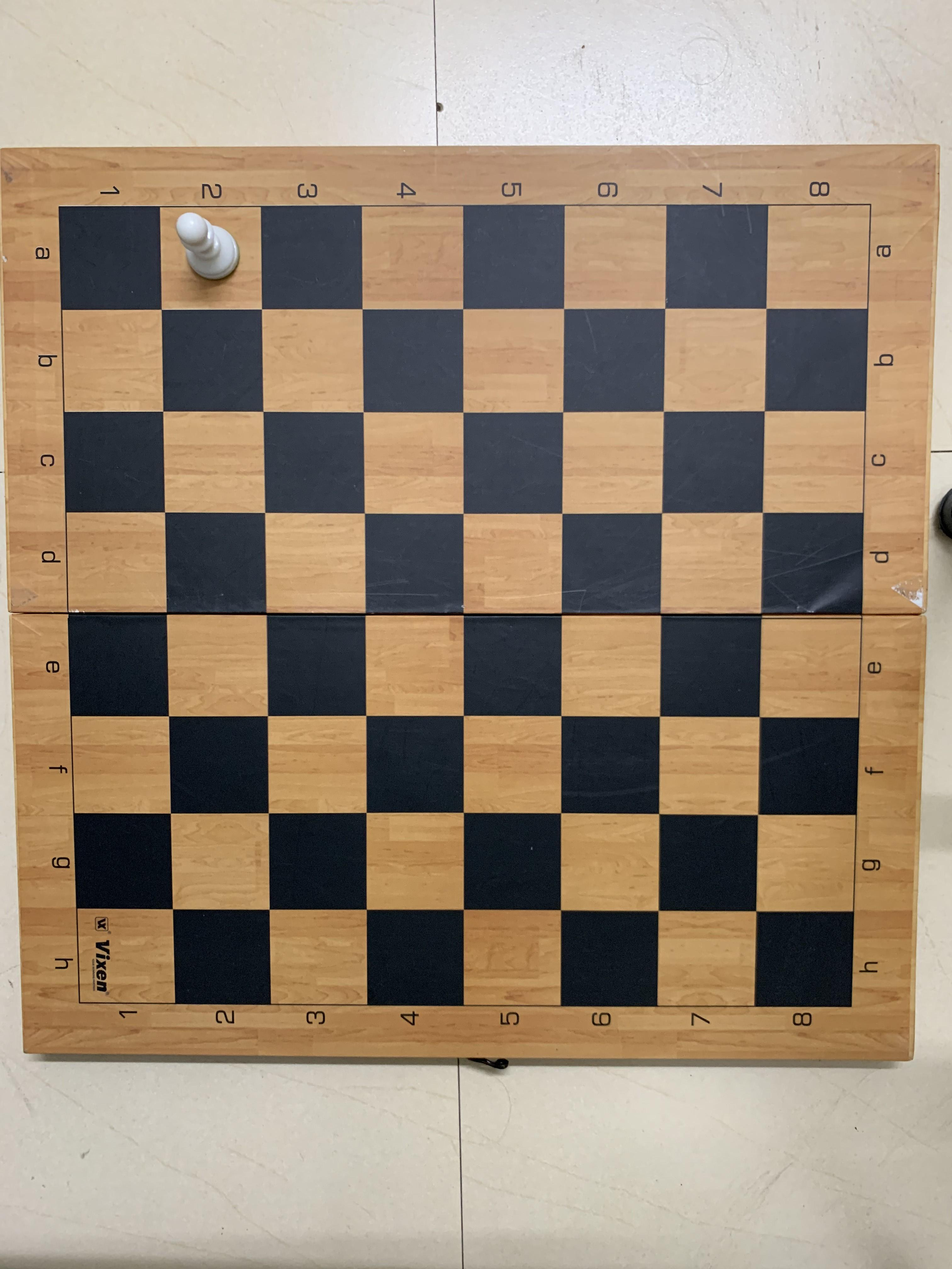white_pawn: (159, 207, 265, 308)
